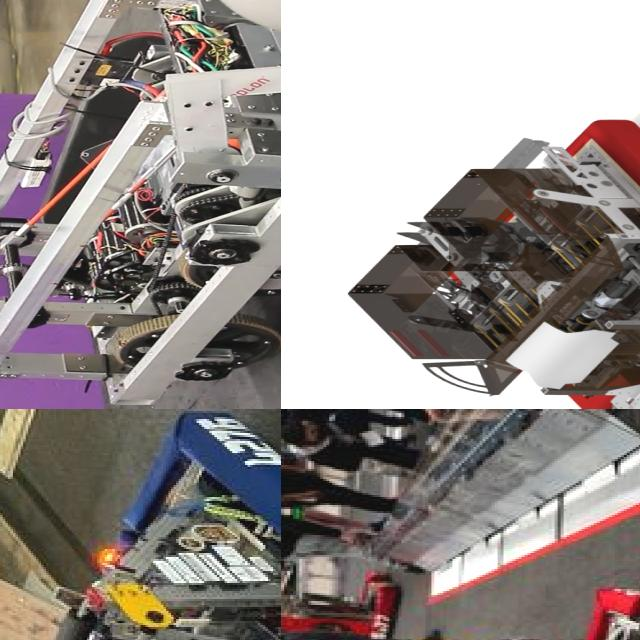FRC-Robots: (0, 0, 281, 409), (322, 106, 640, 409), (0, 409, 281, 640), (281, 553, 640, 640)
